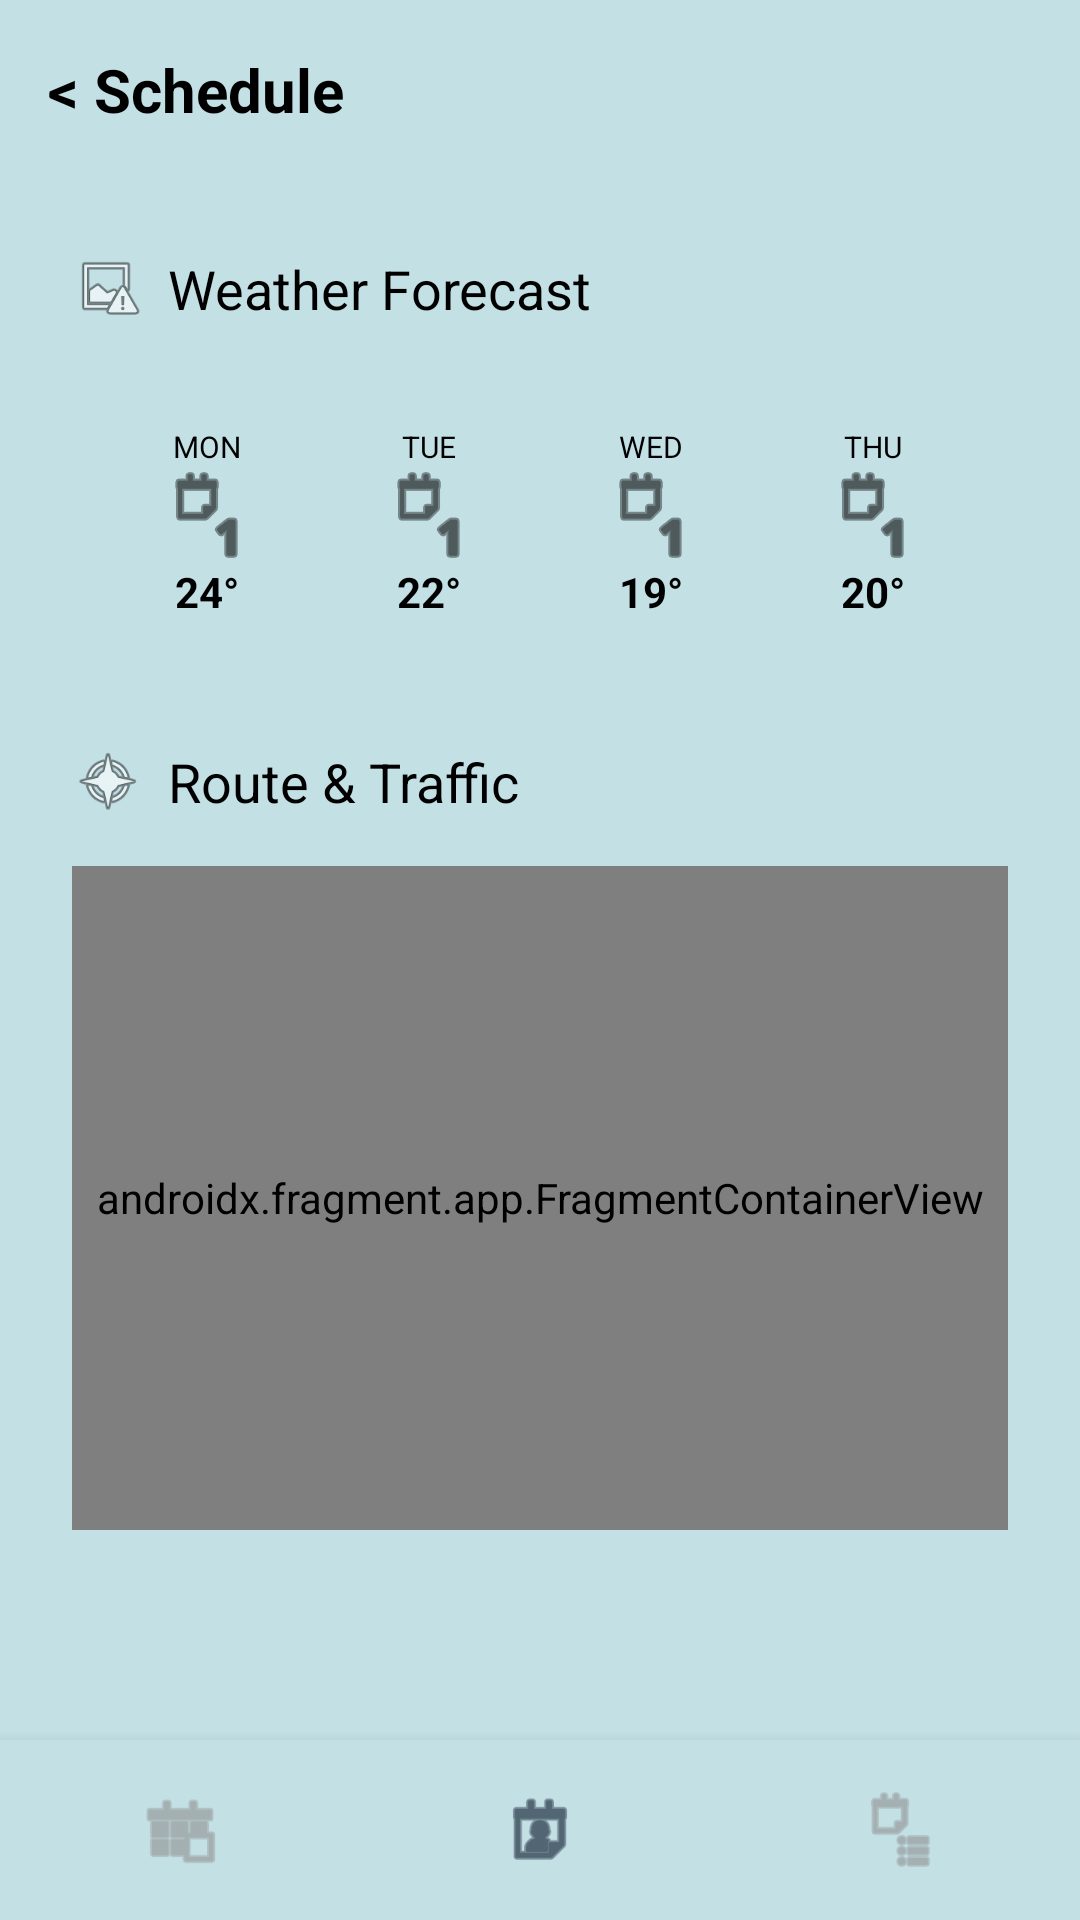

Where icons sit on this 1080 x 1920 app screen, as (left=x1, top=y1, right=x2, bottom=y2):
agenda: (left=871, top=1793, right=930, bottom=1867)
compass: (left=79, top=753, right=136, bottom=810)
day: (left=175, top=472, right=238, bottom=558), (left=397, top=472, right=460, bottom=558), (left=619, top=472, right=682, bottom=558), (left=841, top=472, right=904, bottom=558)
report: (left=82, top=262, right=140, bottom=315)
